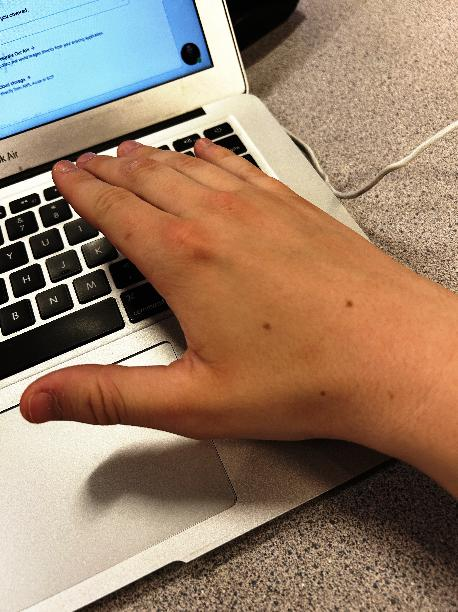Paper: (3, 79, 444, 495)
